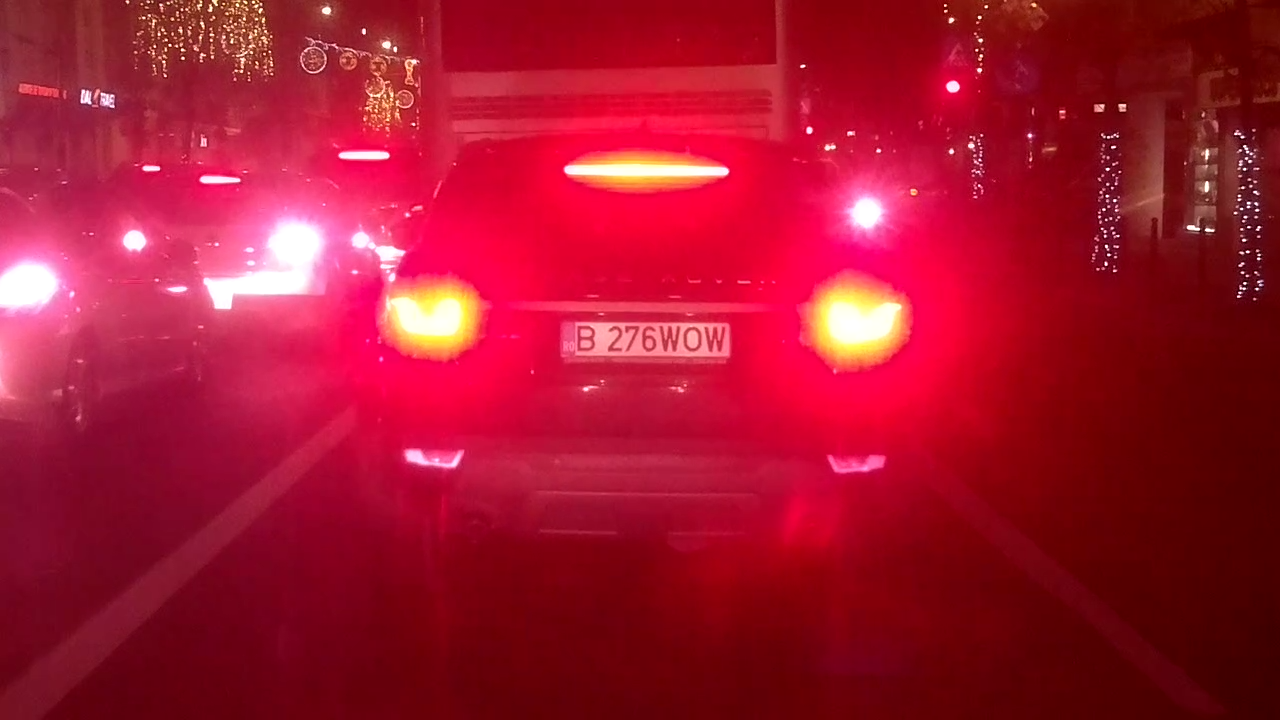license-plate: (551, 315, 740, 368)
